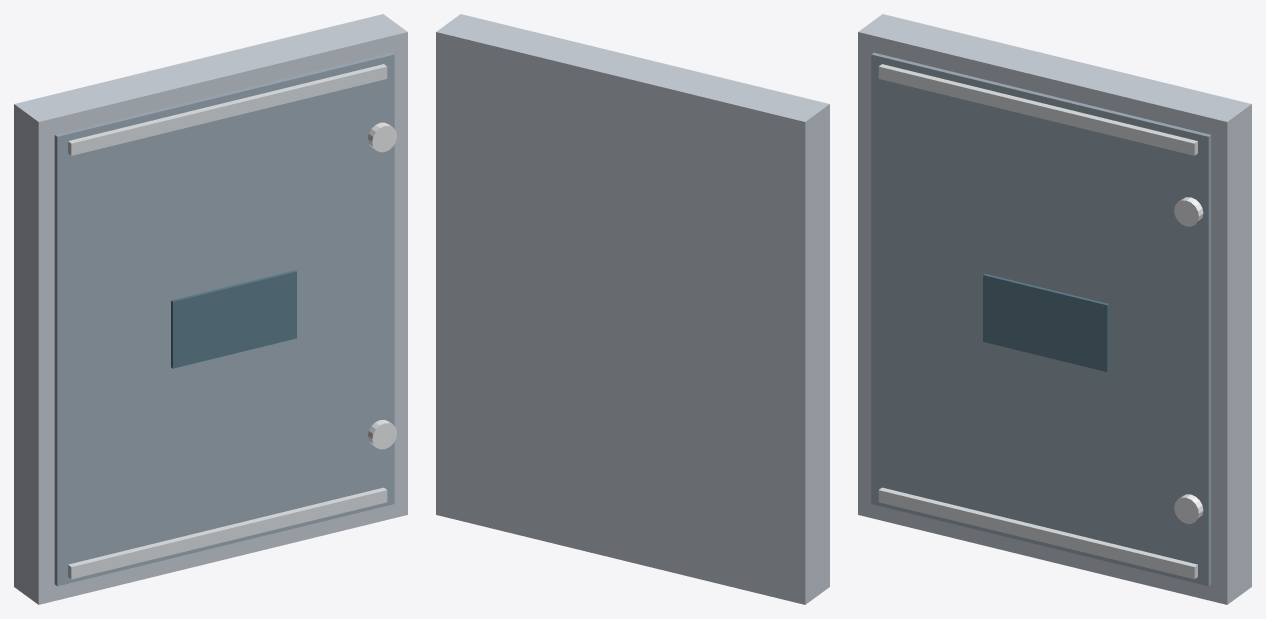
Rendered from service_cover.glb.
The picture shows the model from 3 angles, left to right: view 1: azimuth 30°, elevation 25°; view 2: azimuth 150°, elevation 25°; view 3: azimuth 330°, elevation 25°; orthographic projection.
Visible parts, largest first — view 1: Front armored plate, Panel backing, Access label plate, Panel reinforcing strip -0.57, Panel reinforcing strip 0.57, Latch -0.4, Latch 0.4; view 2: Panel backing; view 3: Front armored plate, Panel backing, Access label plate, Panel reinforcing strip -0.57, Panel reinforcing strip 0.57, Latch 0.4, Latch -0.4.
Boxes of the visible parts, x1,y1,x2,y2 form: Front armored plate: (54, 52, 394, 586); Panel backing: (14, 14, 407, 604); Access label plate: (171, 270, 296, 368); Panel reinforcing strip -0.57: (68, 487, 387, 579); Panel reinforcing strip 0.57: (68, 64, 387, 155); Latch -0.4: (368, 420, 396, 449); Latch 0.4: (368, 122, 396, 152); Panel backing: (436, 14, 829, 604); Front armored plate: (871, 52, 1211, 586); Panel backing: (858, 14, 1251, 604); Access label plate: (983, 273, 1108, 371); Panel reinforcing strip -0.57: (878, 487, 1197, 579); Panel reinforcing strip 0.57: (878, 64, 1197, 155); Latch 0.4: (1174, 197, 1203, 226); Latch -0.4: (1174, 494, 1203, 523).
Bounding box in the file's own units: 1.04 × 1.3 × 0.163.
